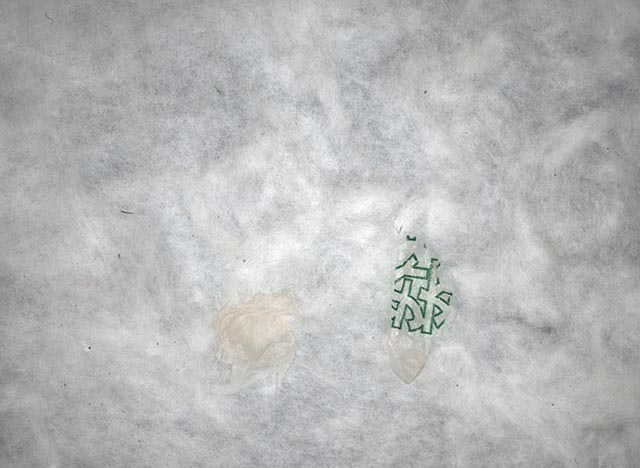plastic film: (385, 233, 453, 385), (215, 298, 295, 387)
